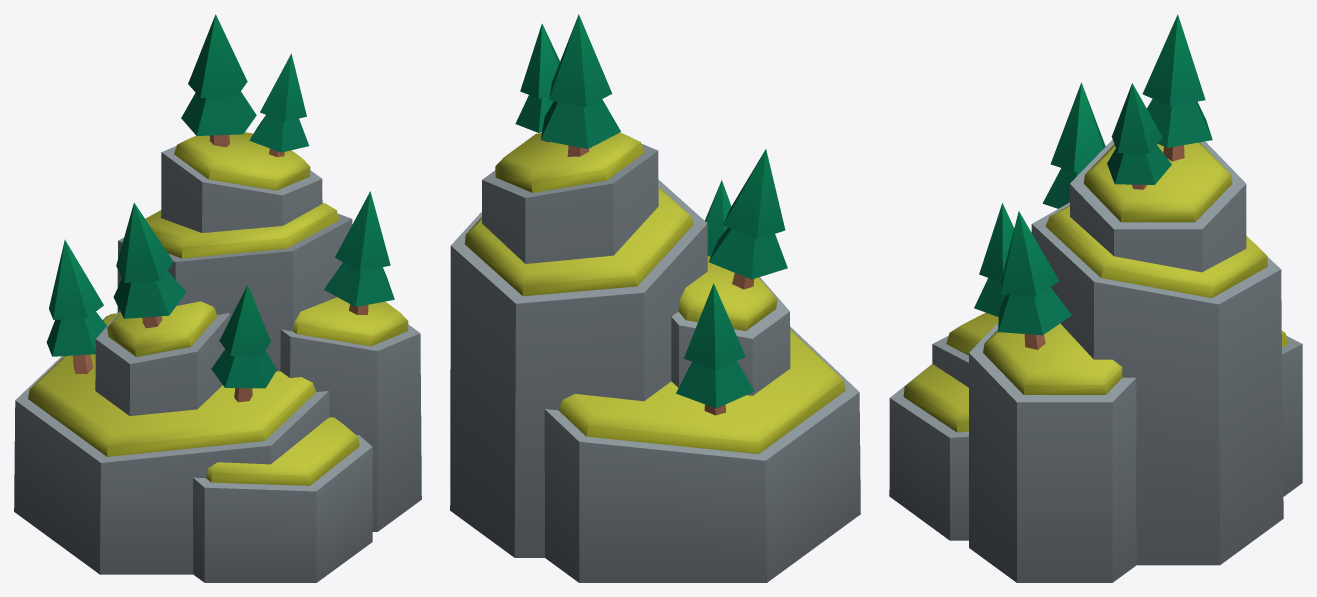
File: mountain_B_grass_trees.glb
3 renders of one model, left to right at view 1: azimuth 30°, elevation 25°; view 2: azimuth 150°, elevation 25°; view 3: azimuth 270°, elevation 25°, orthographic. The views are drawn at different scales.
Parts seen in each view (by area): view 1: mountain_B_grass_trees; view 2: mountain_B_grass_trees; view 3: mountain_B_grass_trees.
Part boxes in pixels (x1,y1,x2,y2): mountain_B_grass_trees: [14, 14, 421, 582]; mountain_B_grass_trees: [450, 14, 860, 582]; mountain_B_grass_trees: [889, 14, 1302, 582].
Bounding box in the file's own units: 1.8 × 2.5 × 1.88.
Materials: 1 (1 with a texture image).
